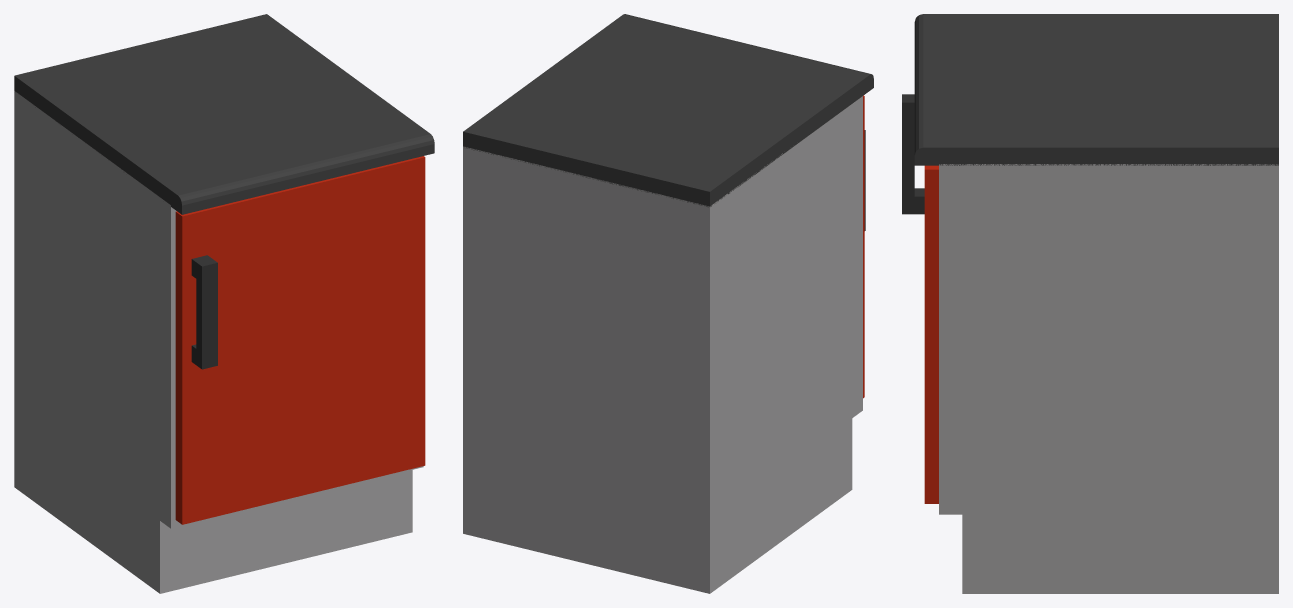
The model's file is küchenschrank01.fbx.
3 views of the same model, side by side, from view 1: azimuth 30°, elevation 25°; view 2: azimuth 150°, elevation 25°; view 3: azimuth 270°, elevation 25° (orthographic). The views are drawn at different scales.
Parts seen in each view (by area): view 1: Cube.016; view 2: Cube.016; view 3: Cube.016.
Part boxes in pixels (box(x1,y1,x2,y2)): Cube.016: box(14, 14, 434, 593); Cube.016: box(463, 14, 873, 593); Cube.016: box(902, 14, 1278, 593).
Bounding box in the file's own units: 104 × 161 × 123.
